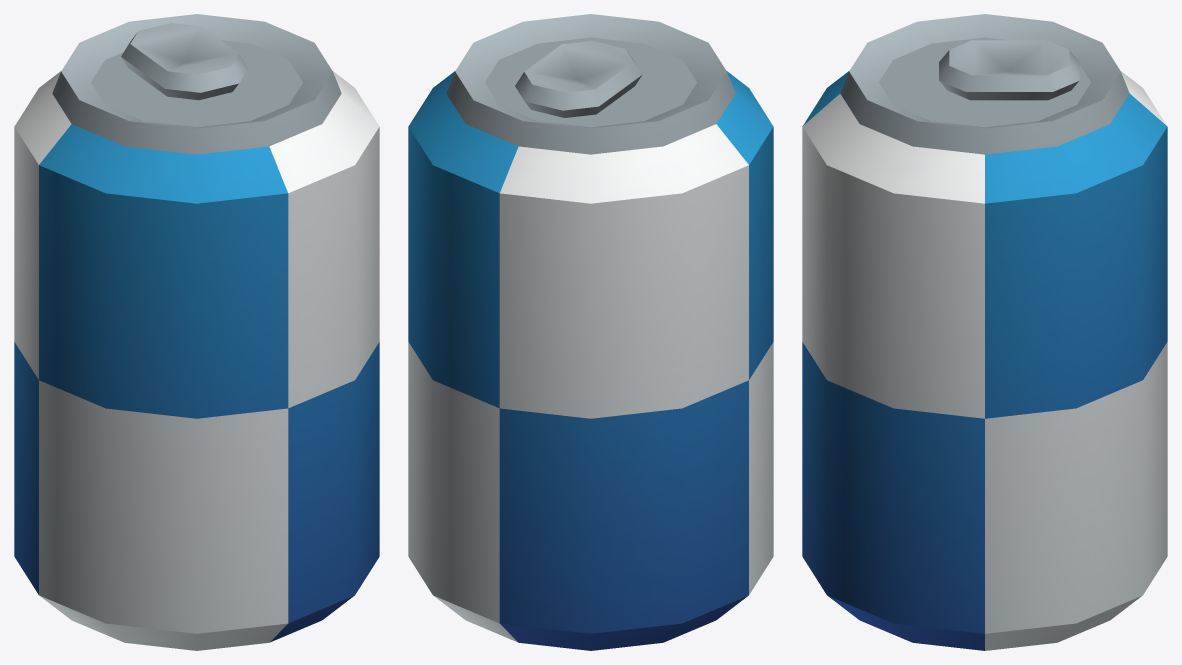
File: can_a.glb
The picture shows the model from 3 angles, left to right: view 1: azimuth 30°, elevation 25°; view 2: azimuth 150°, elevation 25°; view 3: azimuth 270°, elevation 25°; orthographic projection.
Parts seen in each view (by area): view 1: Can_A; view 2: Can_A; view 3: Can_A.
Part boxes in pixels (bbox=[...]): Can_A: bbox=[14, 14, 379, 650]; Can_A: bbox=[408, 14, 773, 650]; Can_A: bbox=[802, 14, 1167, 650].
Size of the model in its own units: 0.3 by 0.4823 by 0.3.
1 material, 1 textured.
